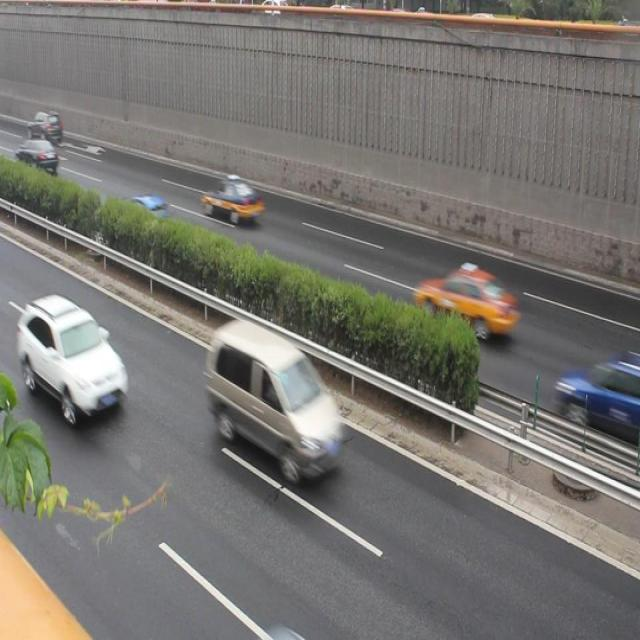car: (22, 294, 127, 417), (412, 265, 518, 338), (109, 195, 171, 247), (201, 177, 263, 226)
truck: (208, 319, 342, 476)
